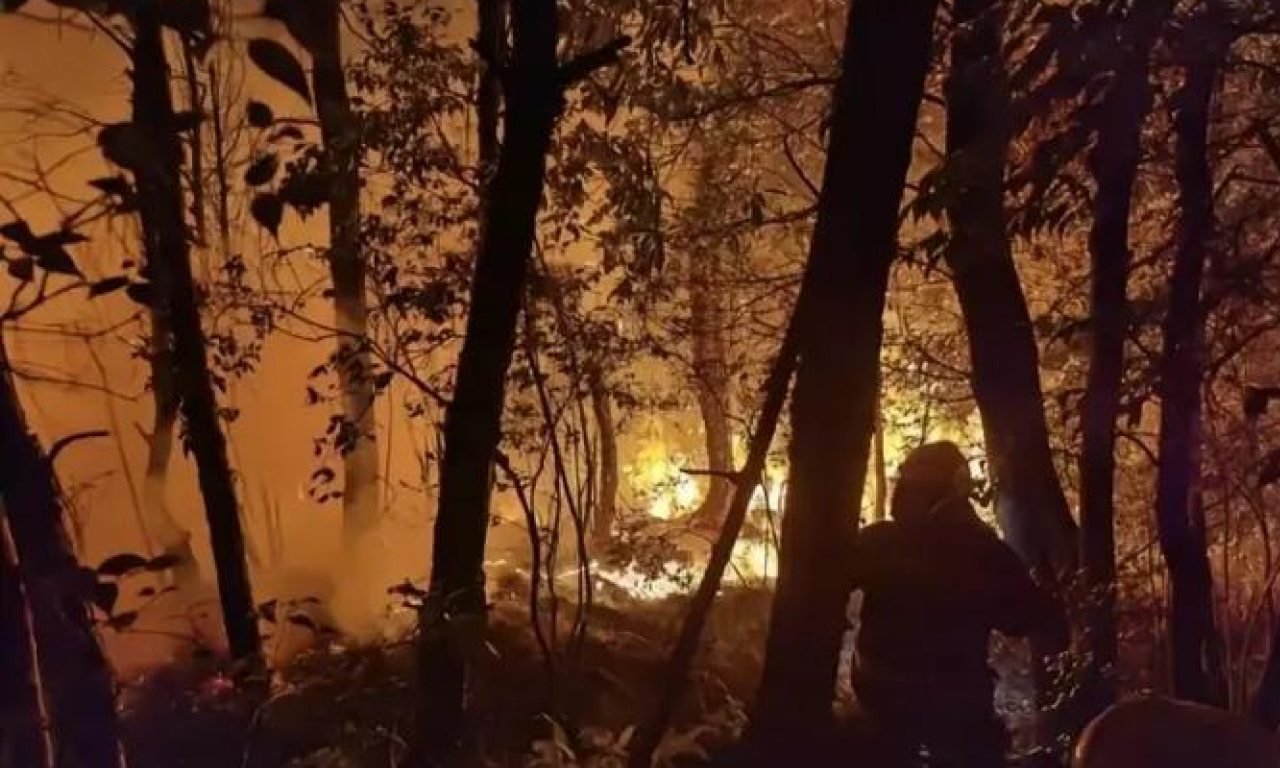fire: (547, 287, 1023, 597)
